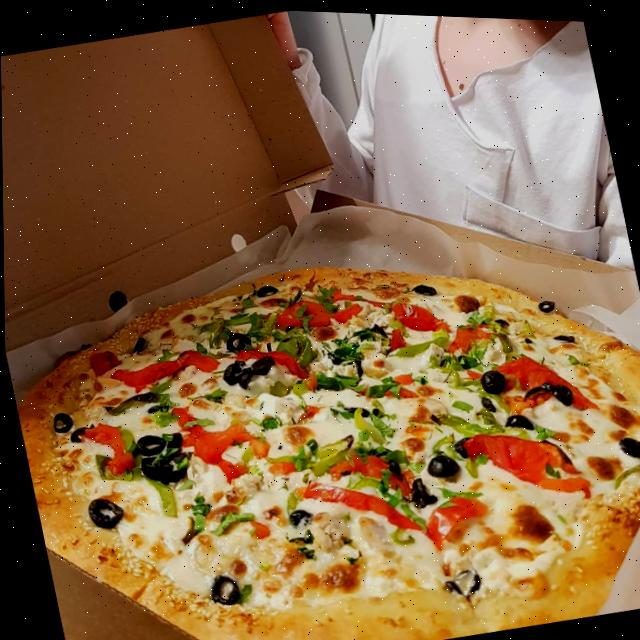black_olives: (83, 492, 125, 533), (203, 568, 242, 607), (441, 563, 481, 596), (404, 470, 436, 506), (139, 450, 173, 482), (424, 448, 461, 477), (132, 430, 166, 456), (615, 427, 640, 459), (478, 366, 506, 393), (502, 407, 535, 429), (518, 375, 553, 395), (47, 409, 74, 434), (249, 352, 276, 376), (551, 376, 575, 403), (253, 278, 281, 299), (69, 422, 96, 443), (224, 328, 251, 349), (411, 276, 438, 297), (219, 359, 242, 382), (451, 431, 471, 457), (343, 400, 370, 418), (288, 507, 314, 525), (128, 333, 150, 354), (476, 390, 498, 410), (235, 366, 254, 388), (145, 401, 171, 417), (551, 328, 575, 343), (536, 293, 556, 310), (165, 430, 182, 447)
pizza: (2, 189, 640, 640)
tomatoes: (462, 411, 593, 513), (298, 457, 422, 550), (498, 343, 599, 424), (326, 439, 415, 505), (105, 341, 220, 392), (417, 487, 491, 550), (83, 414, 139, 478), (234, 337, 305, 385), (189, 418, 259, 466), (264, 293, 334, 336), (331, 275, 395, 315), (392, 292, 442, 337), (442, 317, 494, 355), (326, 300, 364, 325), (386, 324, 404, 347)
